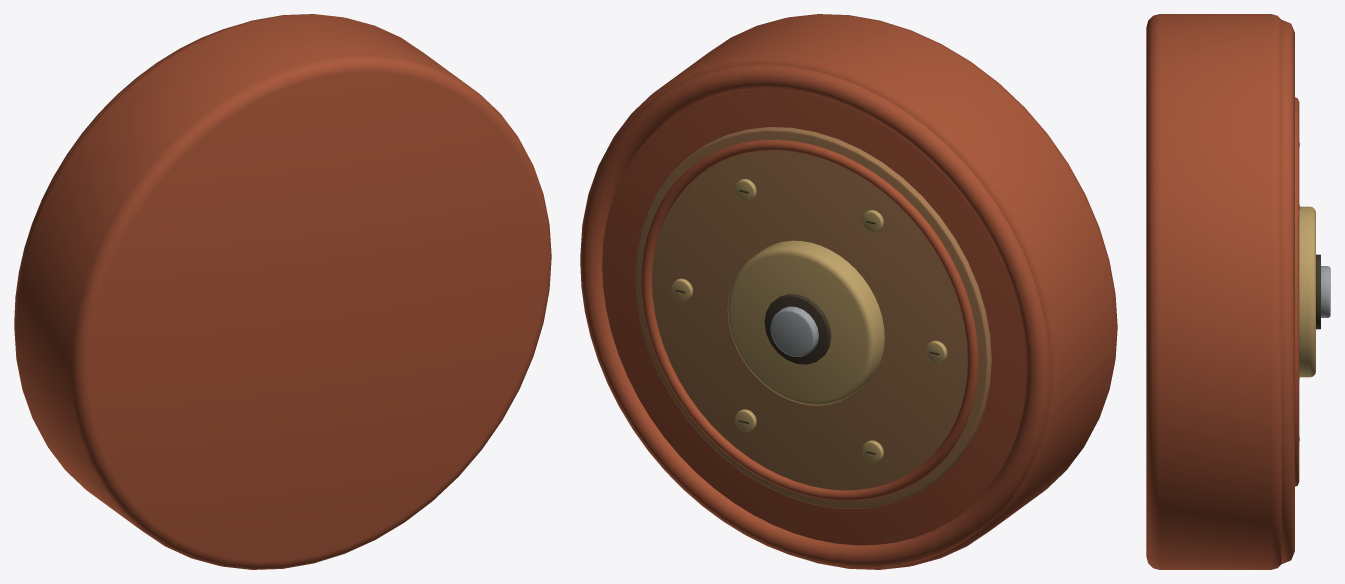
The model's file is v17_train_wheel.glb.
3 renders of one model, left to right at view 1: azimuth 30°, elevation 25°; view 2: azimuth 150°, elevation 25°; view 3: azimuth 270°, elevation 25°, orthographic.
Visible parts, largest first — view 1: Turned wooden wheel, Painted wheel rim; view 2: Turned wooden wheel, Wheel inset, Painted wheel rim, Hub shoulder, Wheel moulded inner ring, Axle end cap, Dark axle recess; view 3: Turned wooden wheel, Painted wheel rim, Hub shoulder, Wheel moulded inner ring, Axle end cap, Dark axle recess.
Boxes of the visible parts, x1=… form: Turned wooden wheel: x1=14, y1=14, x2=551, y2=569; Painted wheel rim: x1=14, y1=26, x2=232, y2=323; Turned wooden wheel: x1=580, y1=14, x2=1117, y2=569; Wheel inset: x1=635, y1=127, x2=991, y2=508; Painted wheel rim: x1=580, y1=64, x2=1050, y2=567; Hub shoulder: x1=727, y1=240, x2=884, y2=405; Wheel moulded inner ring: x1=641, y1=139, x2=978, y2=500; Axle end cap: x1=770, y1=306, x2=818, y2=356; Dark axle recess: x1=764, y1=294, x2=831, y2=364; Turned wooden wheel: x1=1146, y1=14, x2=1281, y2=569; Painted wheel rim: x1=1281, y1=20, x2=1294, y2=563; Hub shoulder: x1=1299, y1=206, x2=1315, y2=377; Wheel moulded inner ring: x1=1295, y1=97, x2=1299, y2=486; Axle end cap: x1=1321, y1=266, x2=1330, y2=317; Dark axle recess: x1=1316, y1=254, x2=1320, y2=329.
Bounding box in the file's own units: 0.384 × 0.384 × 0.127.
